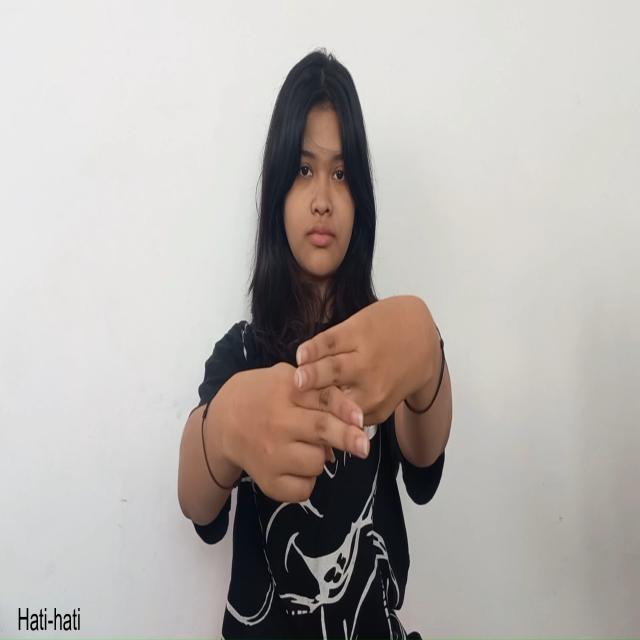Hati-hati -BISINDO-: (216, 295, 437, 505)
